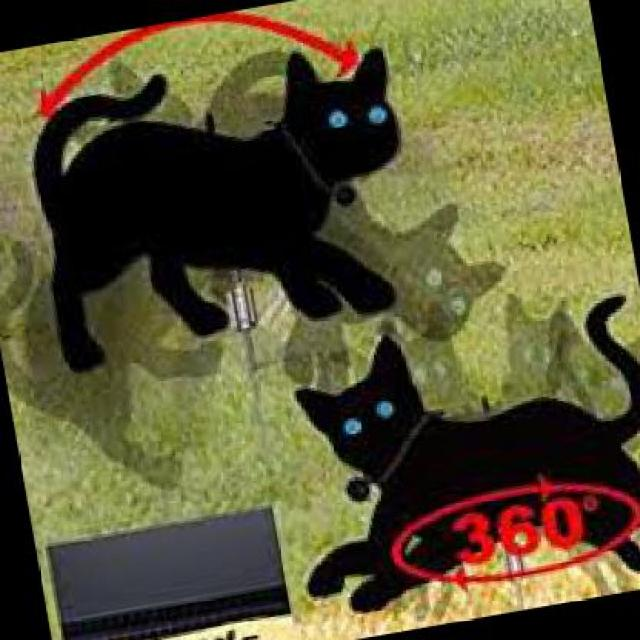animals: (0, 28, 466, 384), (284, 268, 638, 528)
